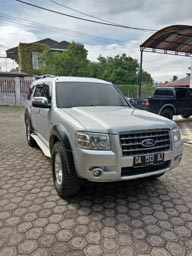plat: (134, 153, 164, 162)
